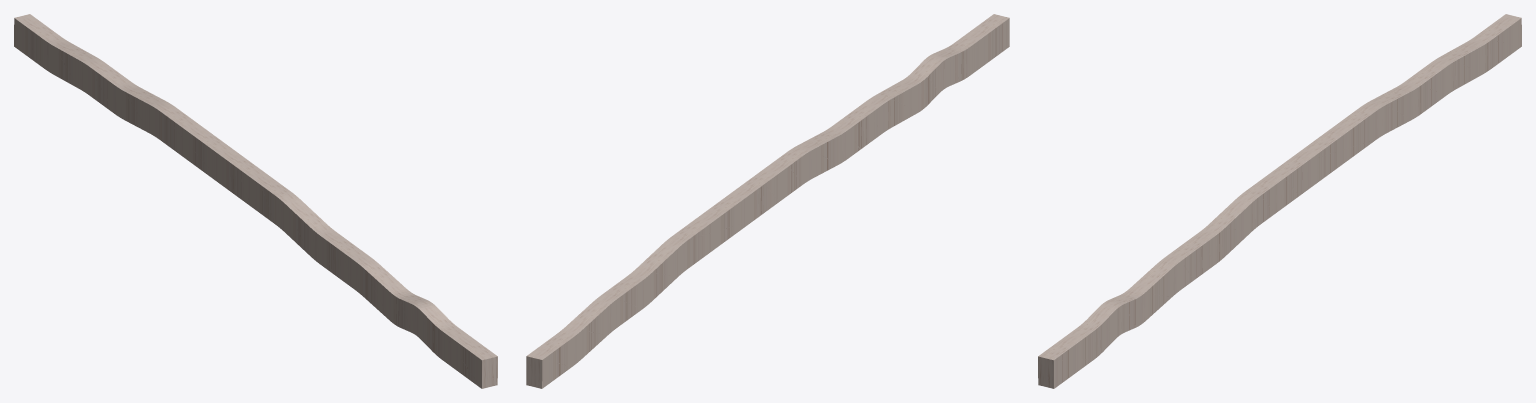
File: road1.fbx
3 renders of one model, left to right at view 1: azimuth 30°, elevation 25°; view 2: azimuth 150°, elevation 25°; view 3: azimuth 330°, elevation 25°, orthographic.
Visible parts, largest first — view 1: Plane.001; view 2: Plane.001; view 3: Plane.001.
Part boxes in pixels (x1,y1,x2,y2): Plane.001: (14, 14, 497, 388); Plane.001: (526, 14, 1009, 388); Plane.001: (1038, 14, 1521, 388).
Bounding box in the file's own units: 9.83 × 24.85 × 500.
1 material, 1 textured.
